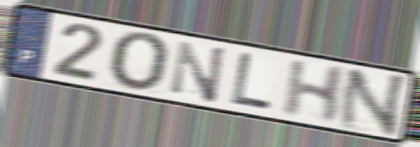2: (51, 22, 107, 85)
H: (279, 58, 351, 125)
L: (229, 50, 275, 113)
N: (335, 67, 412, 139), (170, 38, 229, 106)
O: (108, 30, 173, 96)
